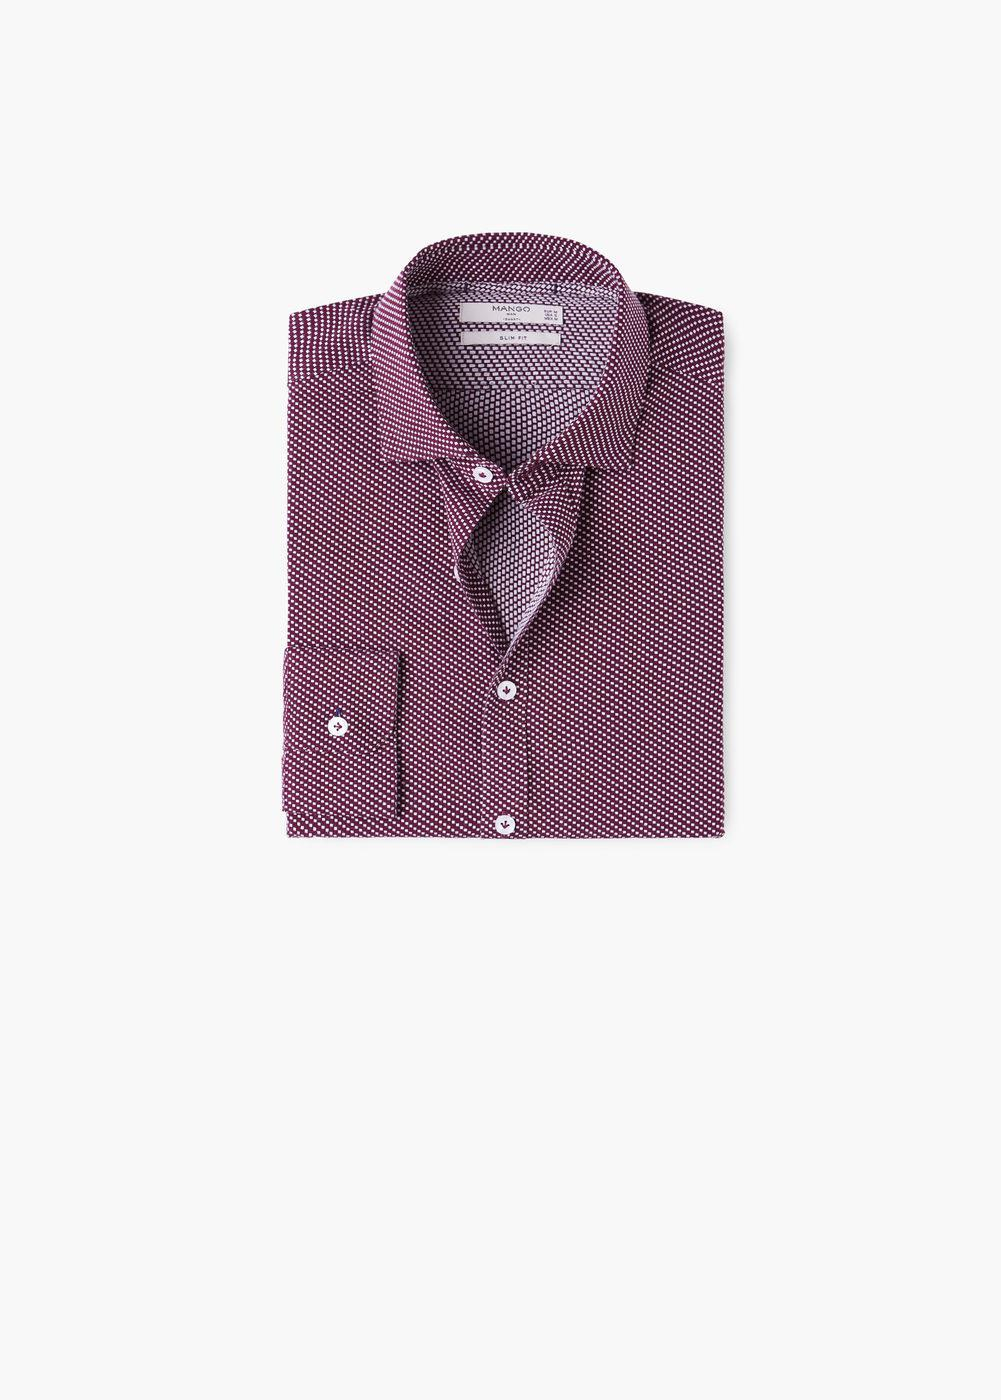teeshirt: (255, 212, 772, 863)
